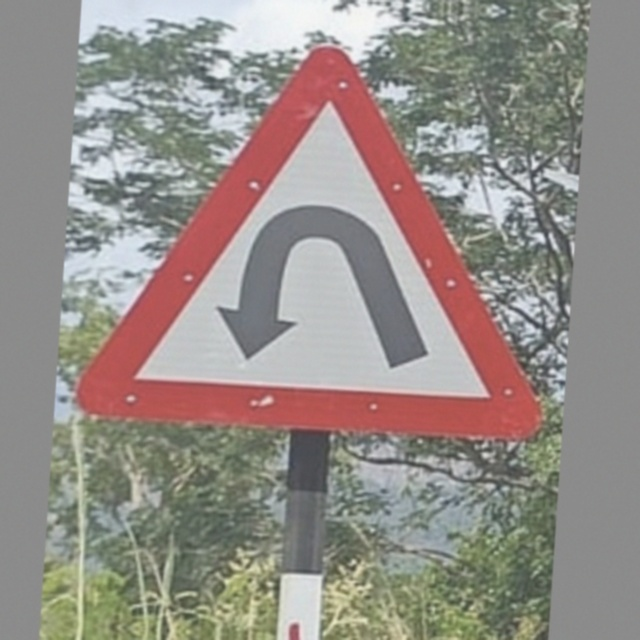Left_Hair_Pin_Bend: (83, 41, 558, 445)
